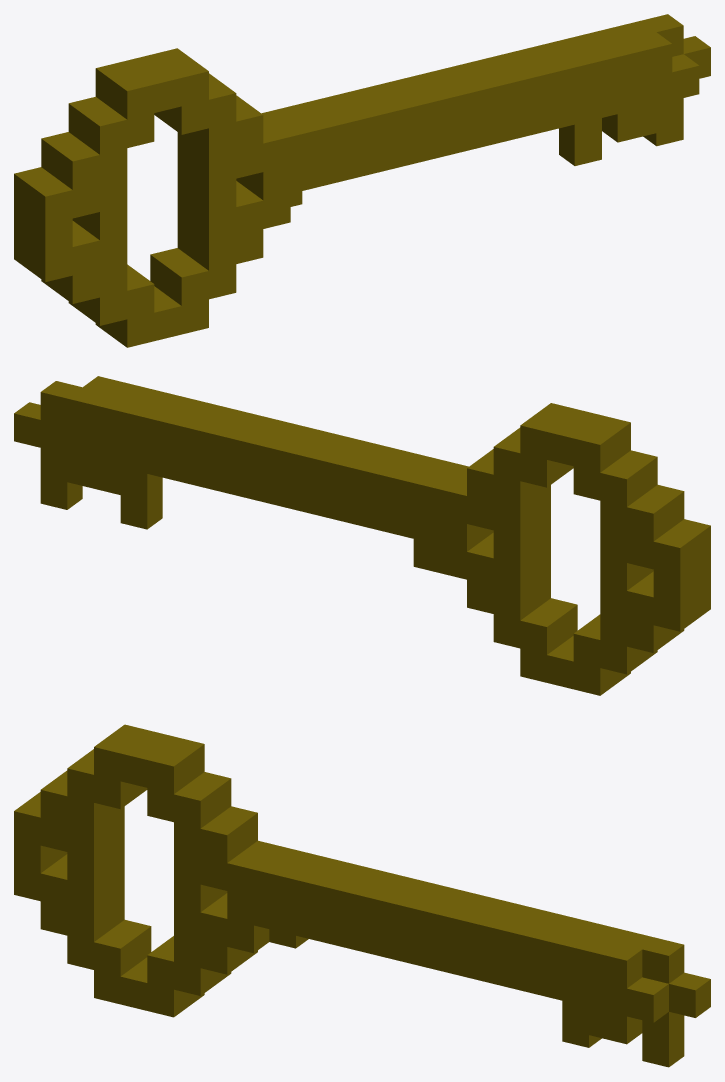
File: key6.glb
3 views of the same model, one above another, from view 1: azimuth 30°, elevation 25°; view 2: azimuth 150°, elevation 25°; view 3: azimuth 330°, elevation 25° (orthographic). The views are drawn at different scales.
Visible parts, largest first — view 1: Untitled; view 2: Untitled; view 3: Untitled.
Part boxes in pixels (<box>): Untitled: <box>14,14,710,347</box>; Untitled: <box>14,376,710,695</box>; Untitled: <box>14,724,710,1067</box>.
Size of the model in its own units: 2.5 by 0.9 by 0.2.
Materials: 1 (1 with a texture image).
